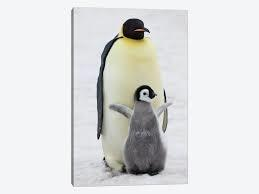emporer: (93, 13, 179, 178)
